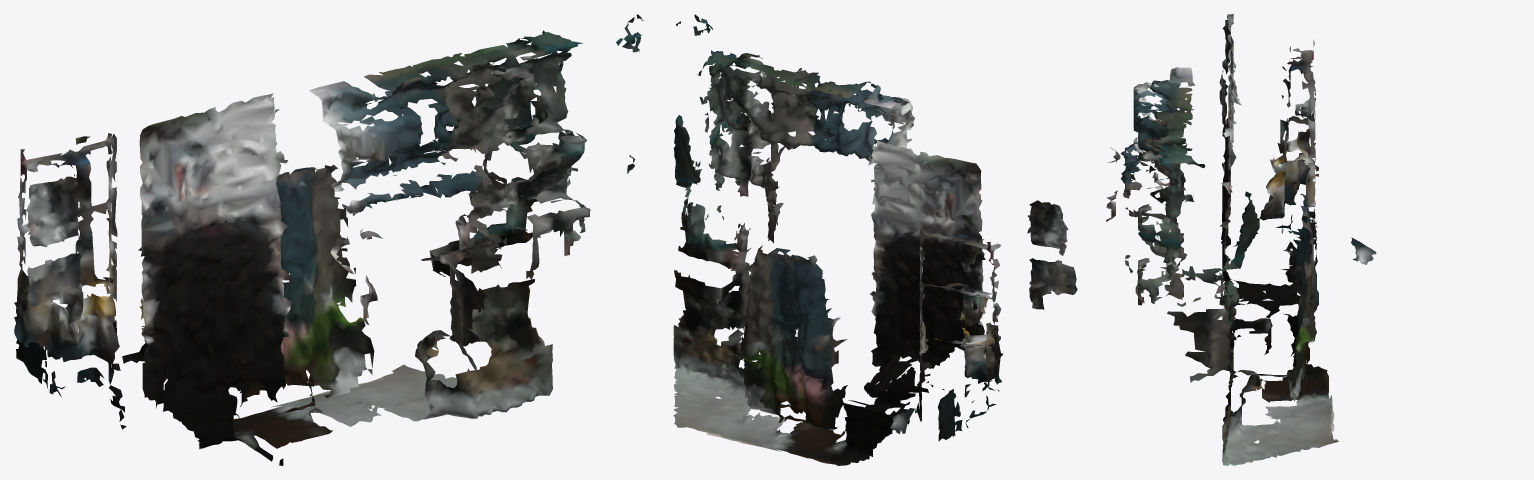
The picture shows the model from 3 angles, left to right: view 1: azimuth 30°, elevation 25°; view 2: azimuth 150°, elevation 25°; view 3: azimuth 270°, elevation 25°; orthographic projection. The views are drawn at different scales.
Size of the model in its own units: 2.98 by 2.13 by 2.41.
